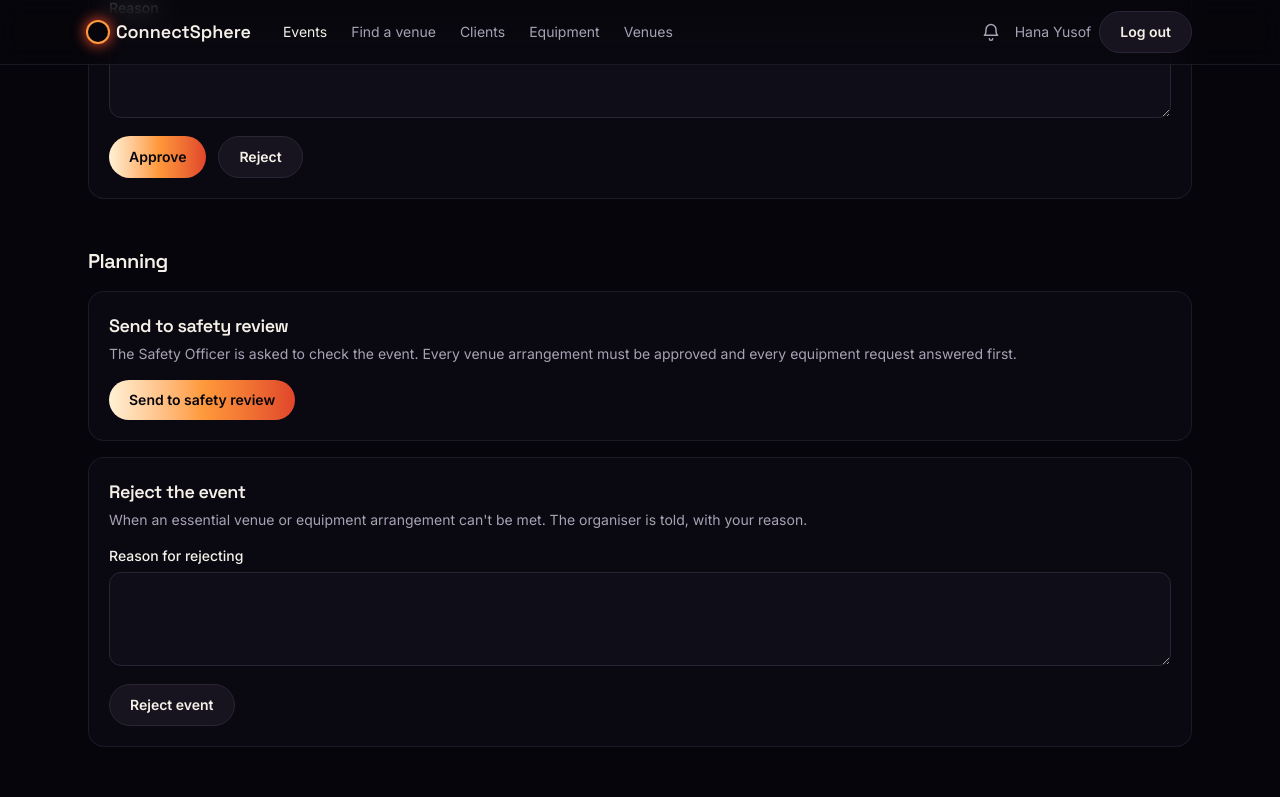
Test: SCRUM-97 sending an event to safety review › says it is busy while the event is being sent
(page scrolled)
Click the button "Send to safety review".
click(202, 400)  # box [109, 380, 295, 420]
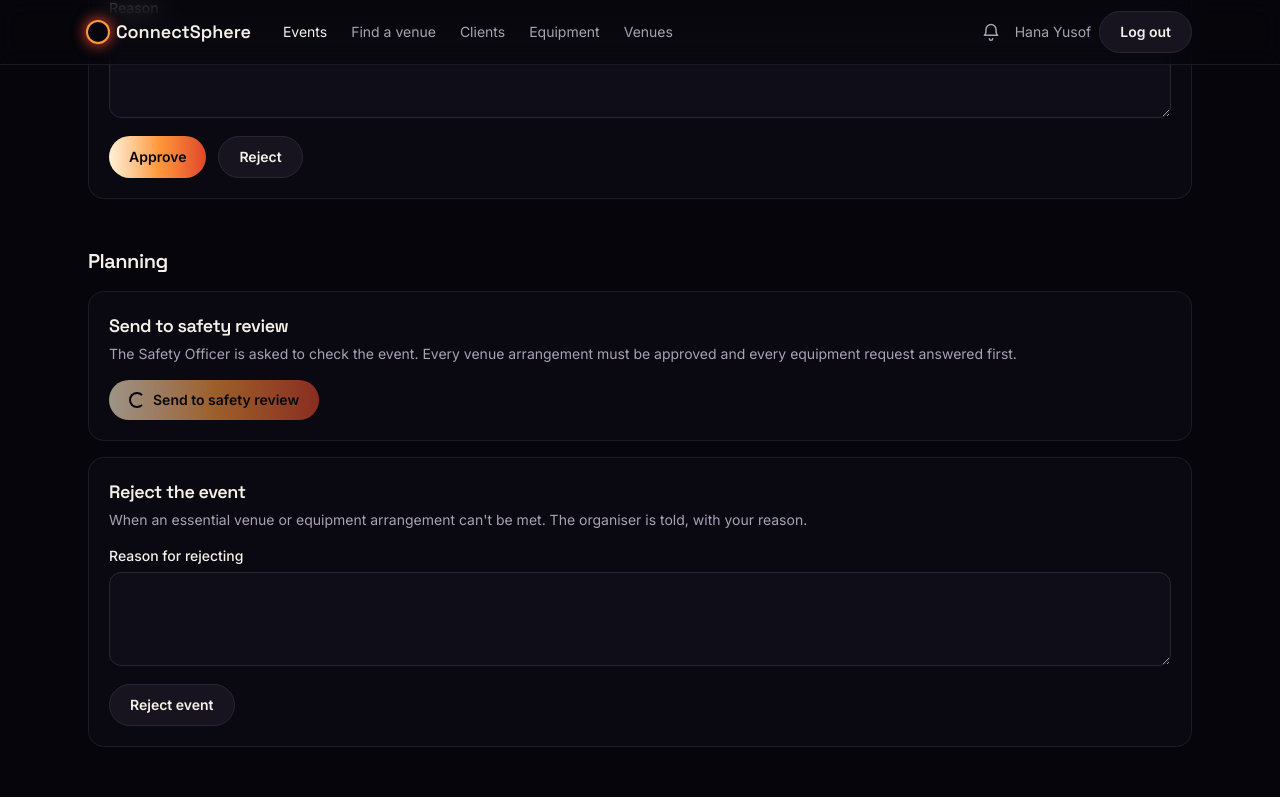
expect the button "Send to safety review" is disabled: met, box [109, 380, 319, 420]
